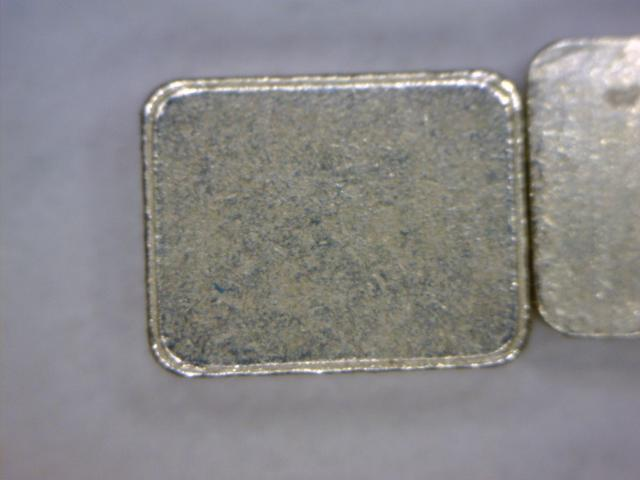nok: (130, 67, 536, 380)
